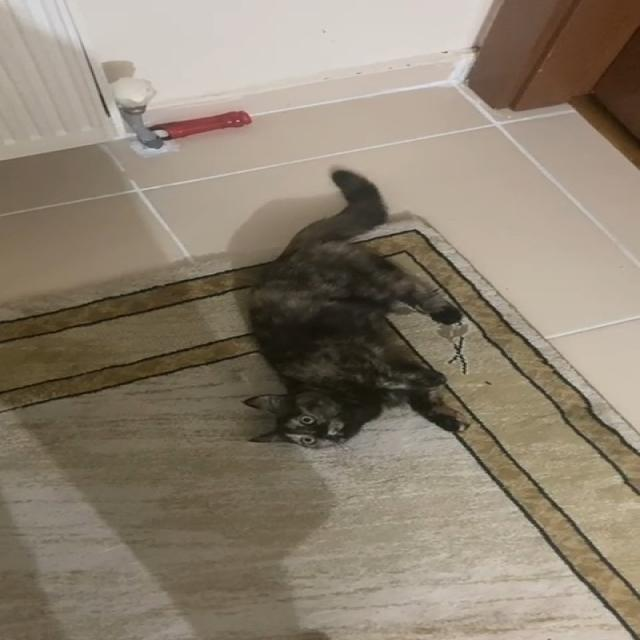authorized: (240, 167, 471, 449)
